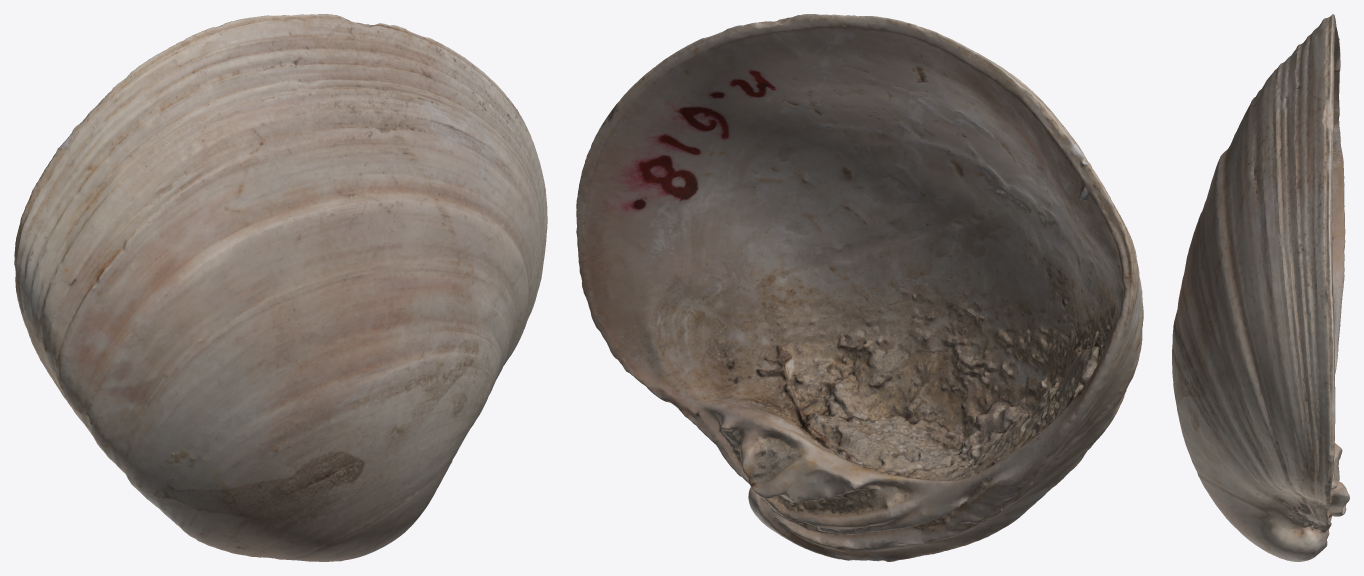
The model's file is EWS0016569.glb.
3 renders of one model, left to right at view 1: azimuth 30°, elevation 25°; view 2: azimuth 150°, elevation 25°; view 3: azimuth 270°, elevation 25°, orthographic. The views are drawn at different scales.
Visible parts, largest first — view 1: input; view 2: input; view 3: input.
Part boxes in pixels (x1,y1,x2,y2): input: (14,14,547,561); input: (576,14,1143,561); input: (1172,14,1349,561).
Bounding box in the file's own units: 0.0302 × 0.0291 × 0.00985.
Materials: 1 (1 with a texture image).
